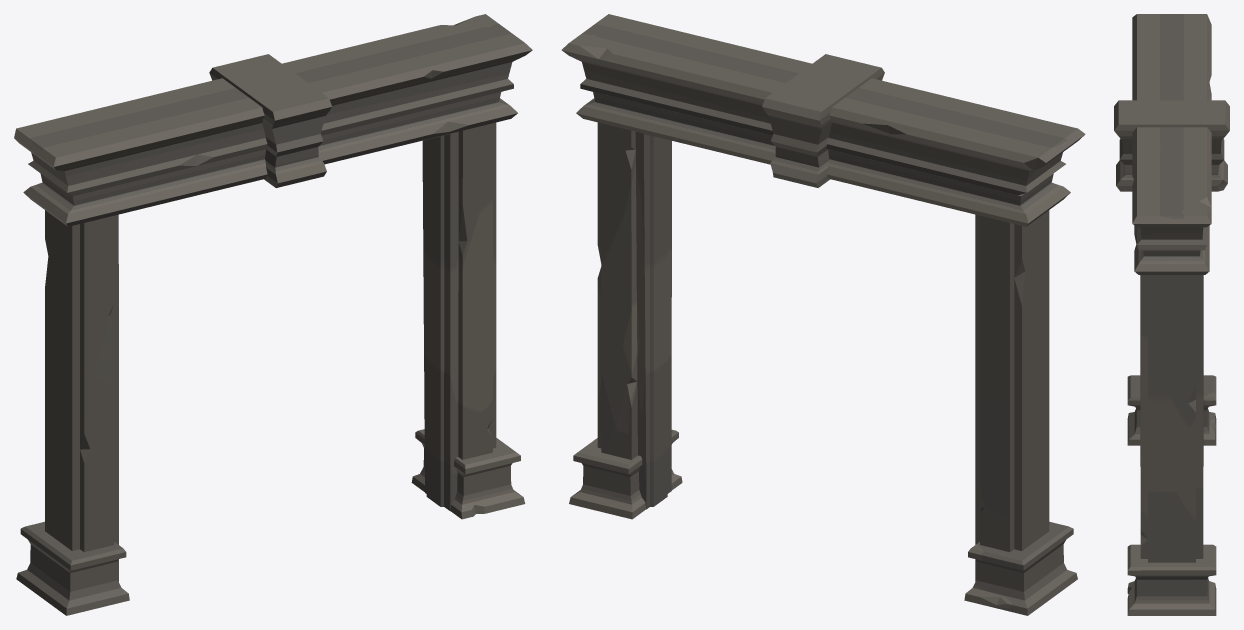
Rendered from SM_Bld_Wall_Door_Large_01.fbx.
3 views of the same model, side by side, from view 1: azimuth 30°, elevation 25°; view 2: azimuth 150°, elevation 25°; view 3: azimuth 270°, elevation 25° (orthographic). The views are drawn at different scales.
Visible parts, largest first — view 1: SM_Bld_Wall_Door_Large_01; view 2: SM_Bld_Wall_Door_Large_01; view 3: SM_Bld_Wall_Door_Large_01.
Part boxes in pixels (box(x1,y1,x2,y2)): SM_Bld_Wall_Door_Large_01: box(14, 14, 532, 615); SM_Bld_Wall_Door_Large_01: box(561, 14, 1085, 615); SM_Bld_Wall_Door_Large_01: box(1114, 14, 1229, 615).
Bounding box in the file's own units: 330 × 302 × 78.31.
